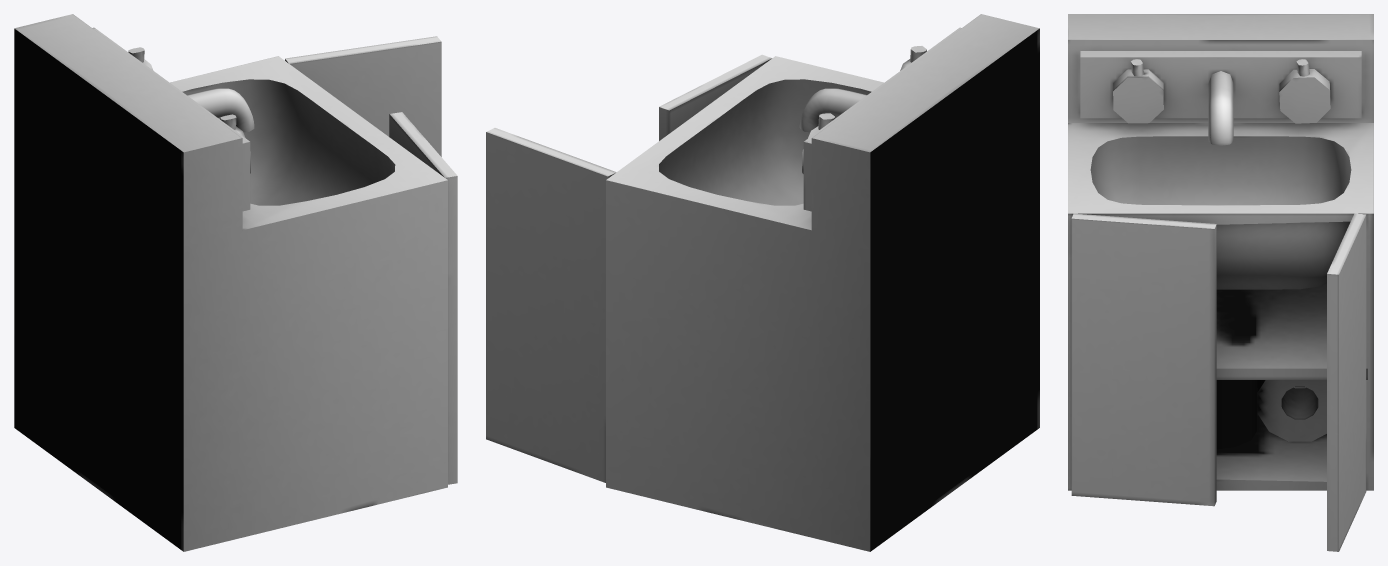
Rendered from STFwccloset.glb.
3 renders of one model, left to right at view 1: azimuth 30°, elevation 25°; view 2: azimuth 150°, elevation 25°; view 3: azimuth 270°, elevation 25°, orthographic. The views are drawn at different scales.
Visible parts, largest first — view 1: STFwccloset; view 2: STFwccloset; view 3: STFwccloset.
Boxes of the visible parts, x1,y1,x2,y2 form: STFwccloset: (14, 14, 457, 551); STFwccloset: (486, 14, 1039, 551); STFwccloset: (1068, 14, 1373, 551).
Size of the model in its own units: 1.37 by 1.3 by 1.
Materials: 1 (1 with a texture image).
